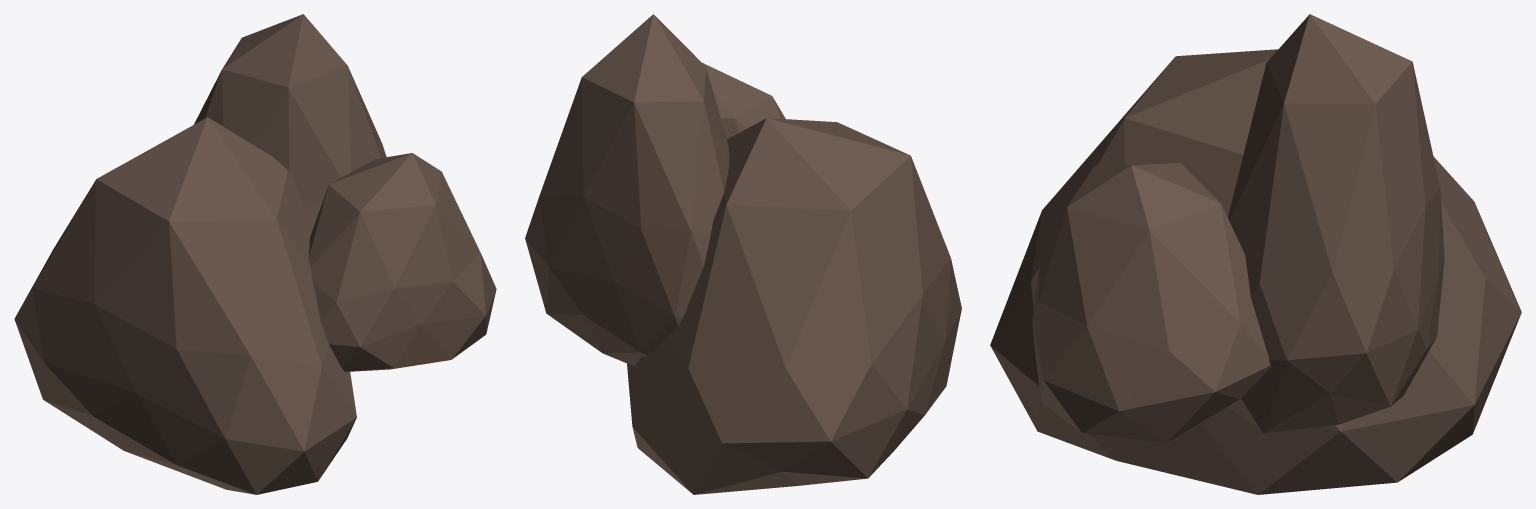
File: stones1.glb
3 views of the same model, side by side, from view 1: azimuth 30°, elevation 25°; view 2: azimuth 150°, elevation 25°; view 3: azimuth 270°, elevation 25° (orthographic). The views are drawn at different scales.
Visible parts, largest first — view 1: Stones1Mesh; view 2: Stones1Mesh; view 3: Stones1Mesh.
Boxes of the visible parts, box(x1,y1,x2,y2) form: Stones1Mesh: box(14, 14, 496, 494); Stones1Mesh: box(525, 14, 961, 494); Stones1Mesh: box(990, 14, 1521, 494).
Size of the model in its own units: 10.42 by 10.7 by 10.16.
